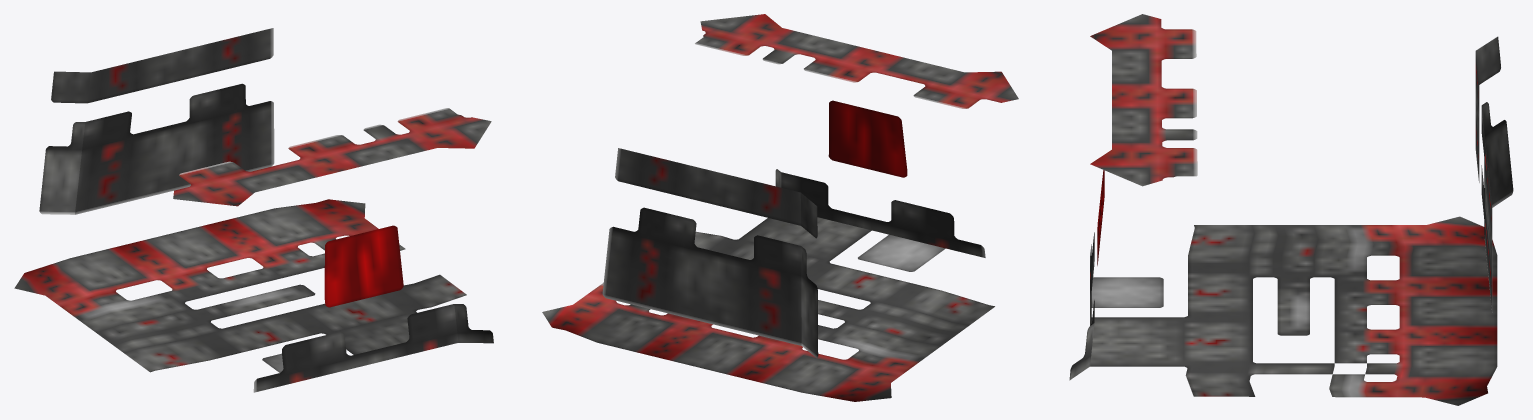
File: bloodaltar-fixeuv.obj
3 renders of one model, left to right at view 1: azimuth 30°, elevation 25°; view 2: azimuth 150°, elevation 25°; view 3: azimuth 270°, elevation 25°, orthographic. The views are drawn at different scales.
Parts seen in each view (by area): view 1: headusOBJexport002; view 2: headusOBJexport002; view 3: headusOBJexport002.
Boxes of the visible parts, x1=… form: headusOBJexport002: x1=14, y1=28, x2=493, y2=392; headusOBJexport002: x1=542, y1=14, x2=1018, y2=401; headusOBJexport002: x1=1069, y1=14, x2=1513, y2=405.
Size of the model in its own units: 15.42 by 8 by 15.43.
